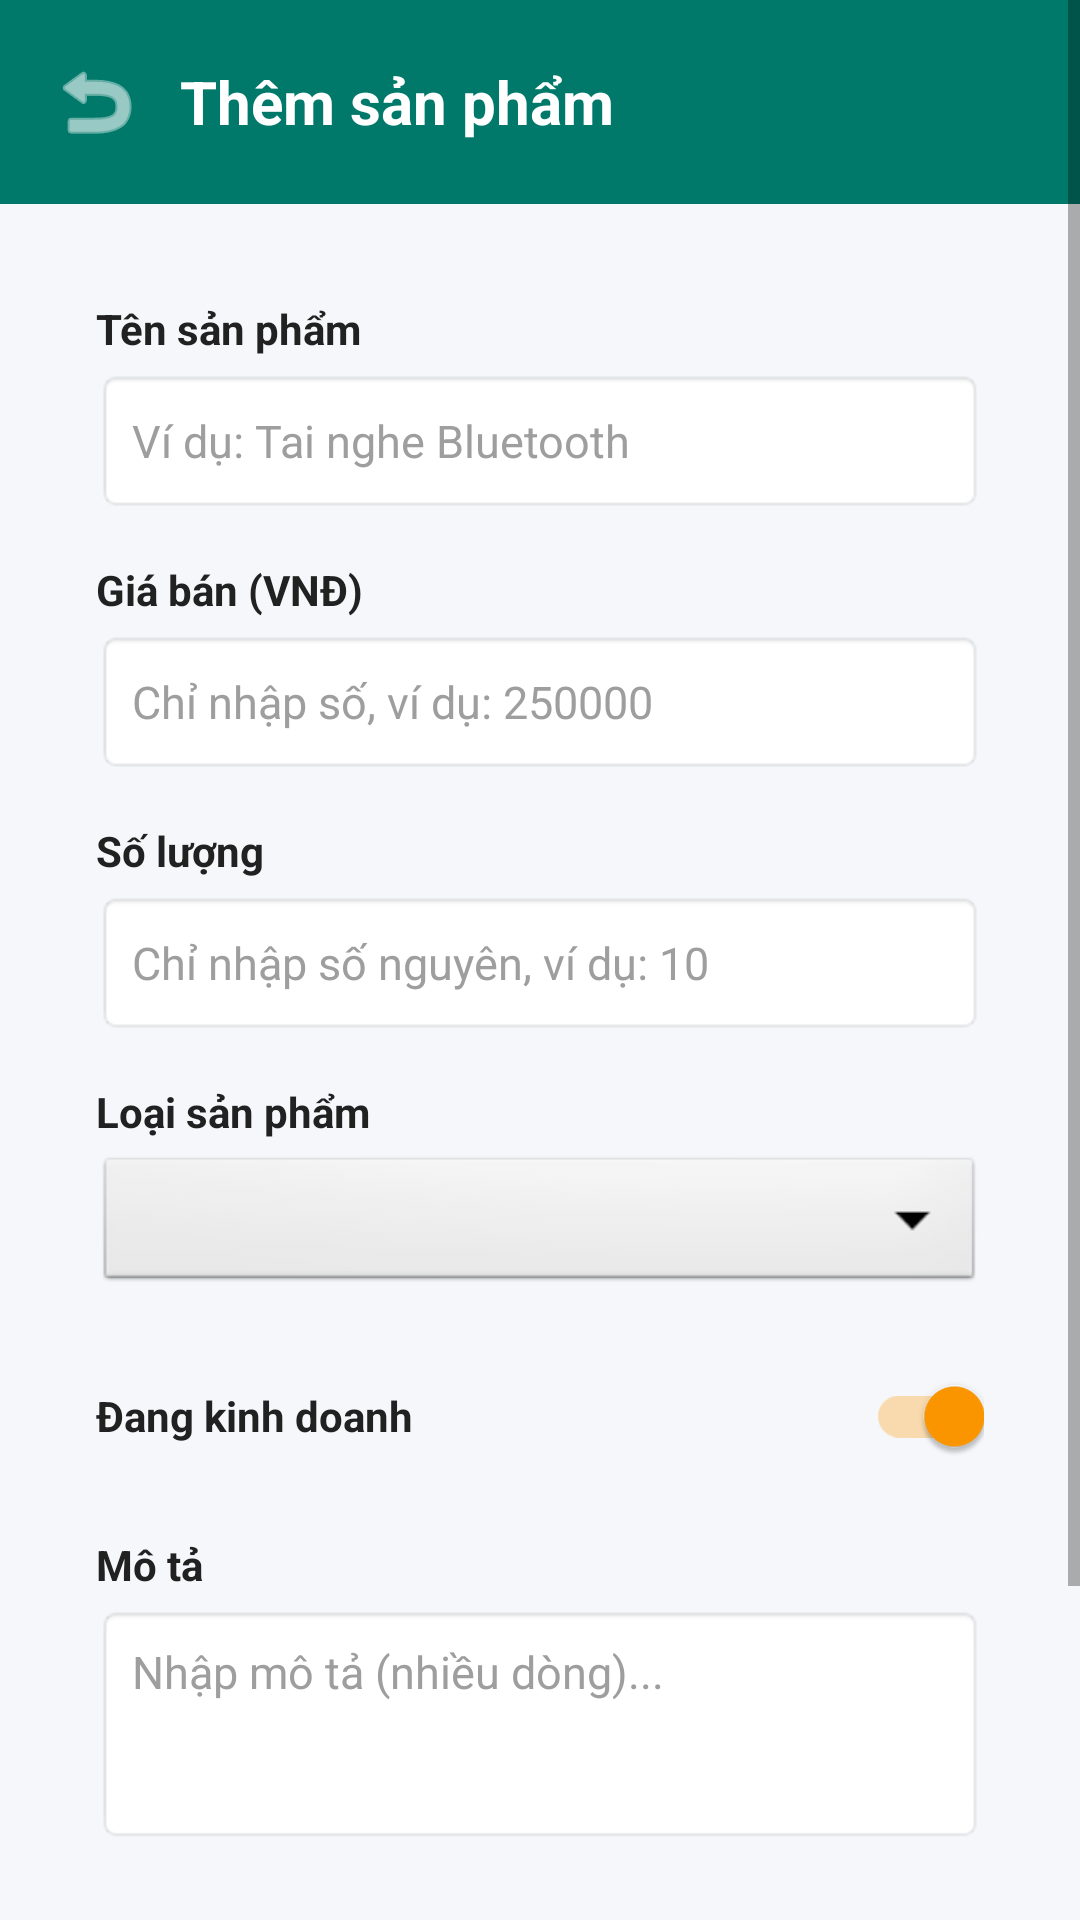

Icon bounding boxes for this 1080w x 1920h phone screenshot, format rect(x1, y1, x2, y2):
Quay lại: rect(63, 71, 132, 134)
